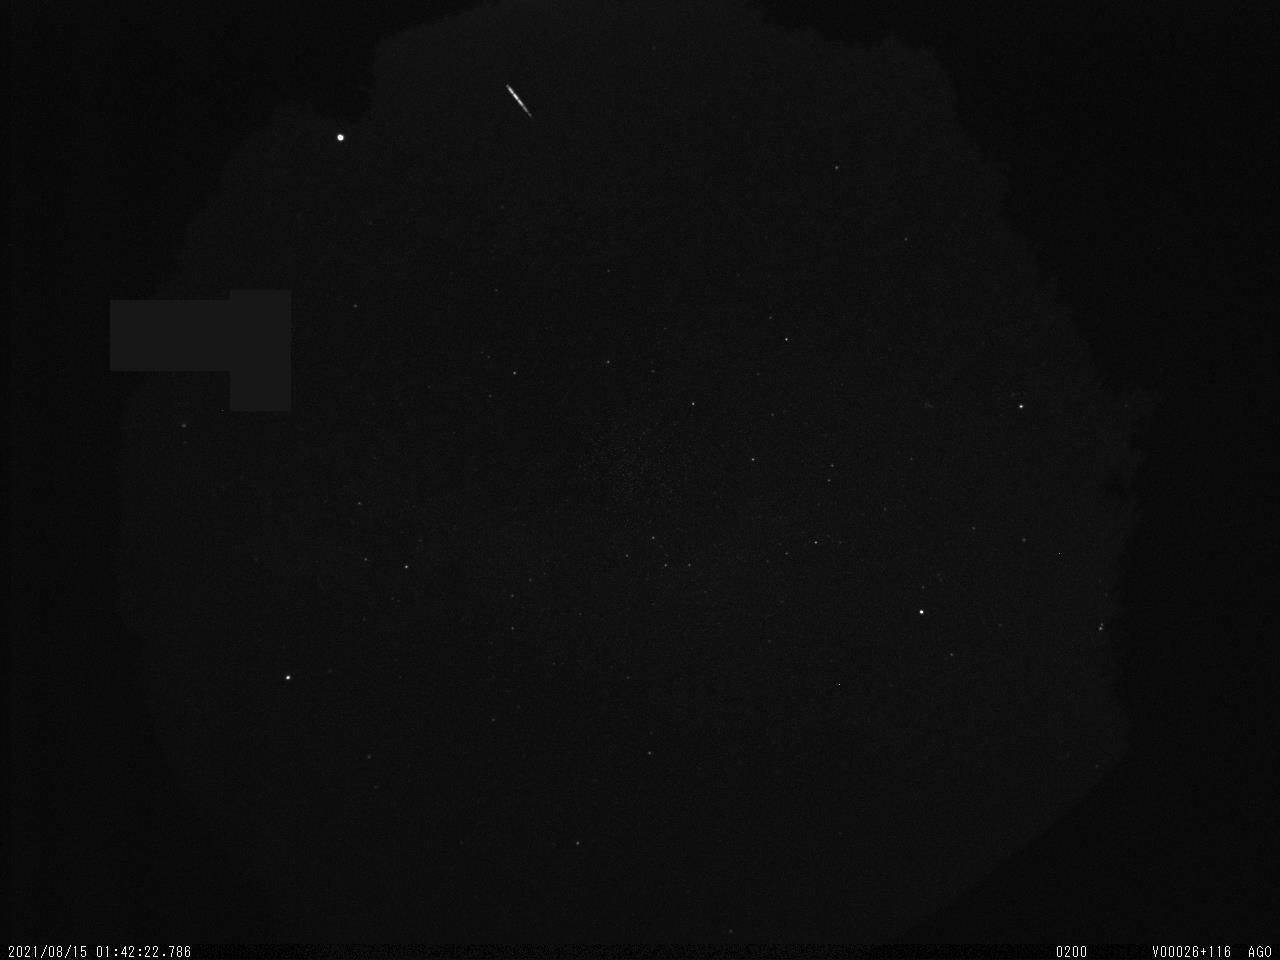meteor: (498, 79, 537, 123)
